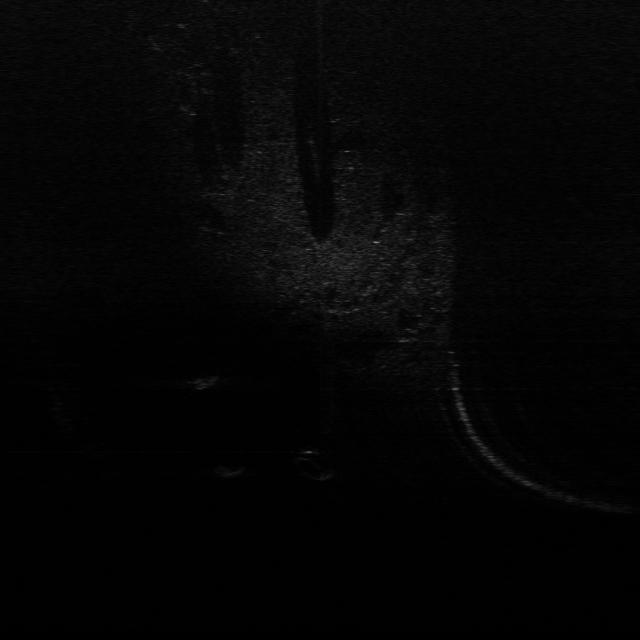cube: (208, 464, 250, 479)
square cage: (184, 374, 220, 392)
tyre: (291, 447, 337, 483)
